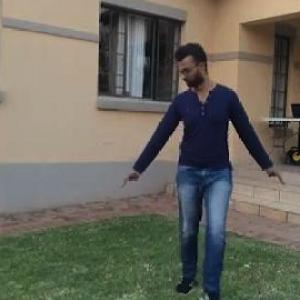land: (109, 29, 298, 298)
